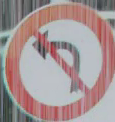Don't turn left: (9, 6, 108, 105)
